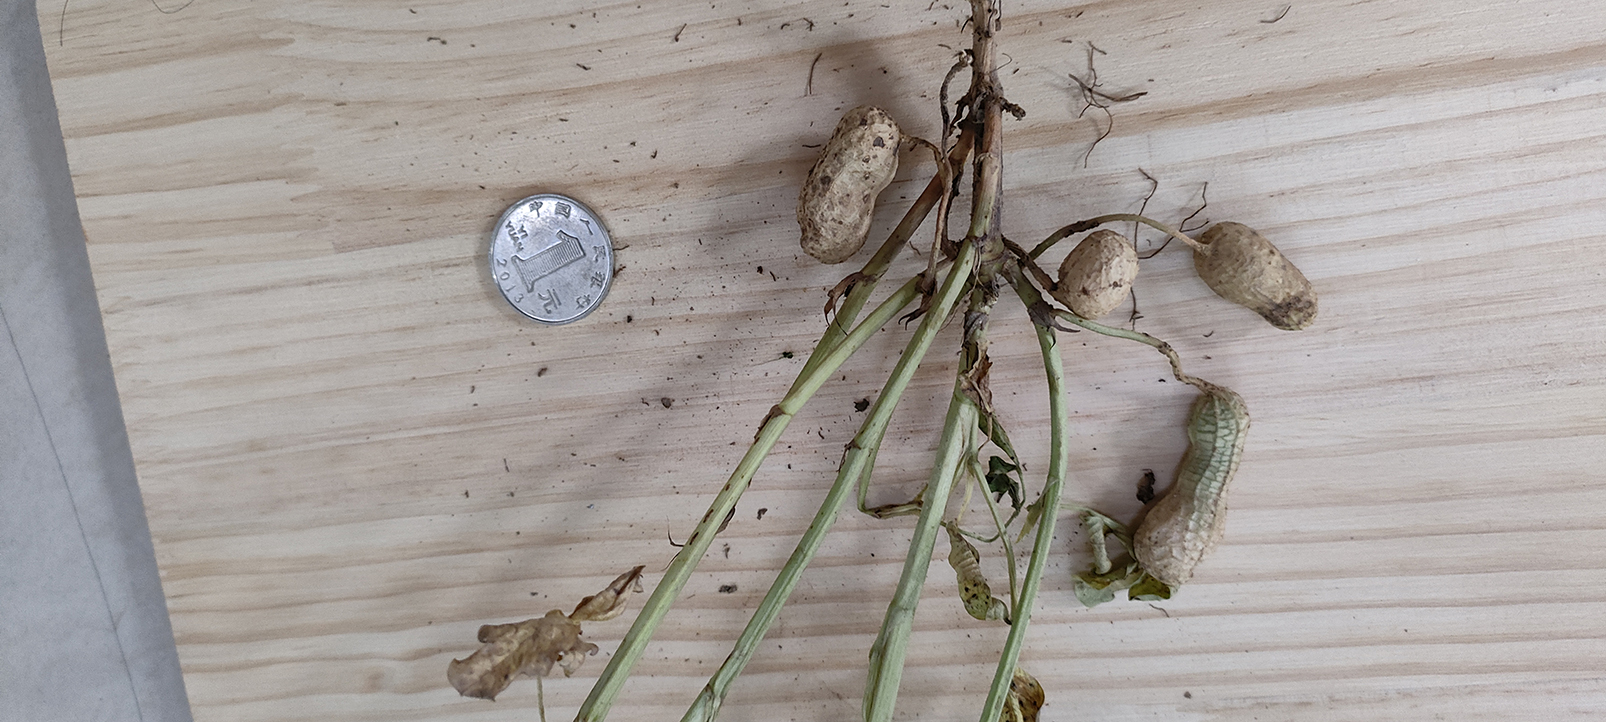h: (1134, 384, 1250, 593), (800, 104, 898, 263), (1195, 223, 1320, 332), (1059, 229, 1139, 323)
